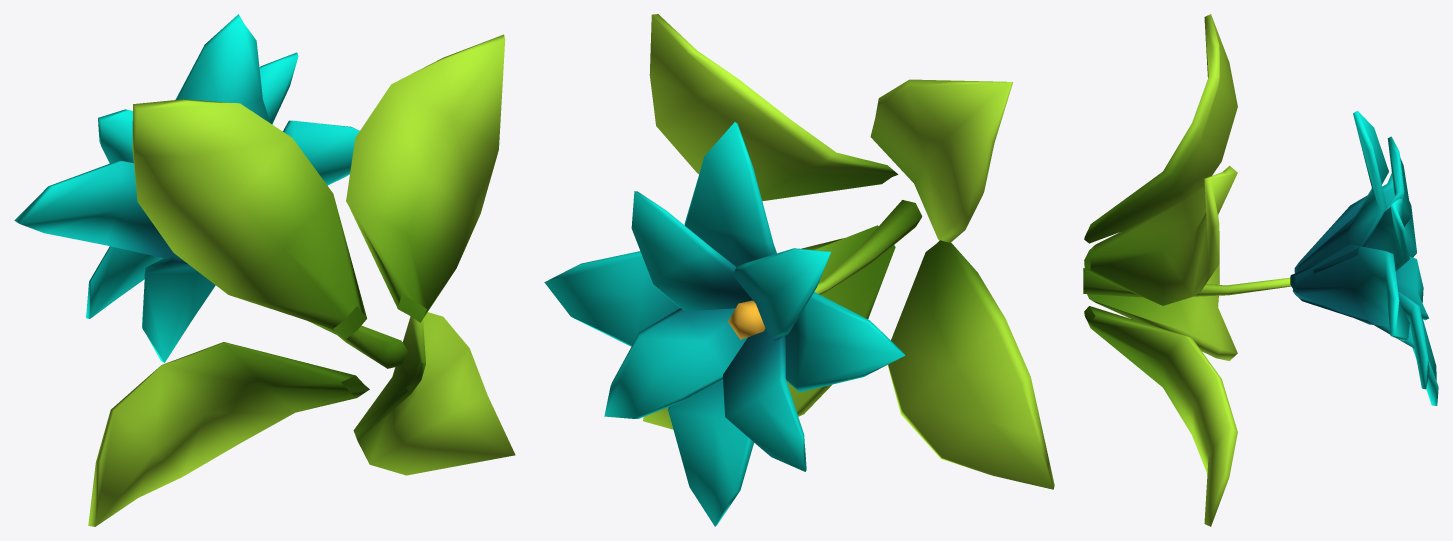
File: bigblueflwrs.fbx
3 views of the same model, side by side, from view 1: azimuth 30°, elevation 25°; view 2: azimuth 150°, elevation 25°; view 3: azimuth 270°, elevation 25° (orthographic). The views are drawn at different scales.
Parts seen in each view (by area): view 1: FLOWERVAR2.001; view 2: FLOWERVAR2.001; view 3: FLOWERVAR2.001.
Part boxes in pixels (x1,y1,x2,y2): FLOWERVAR2.001: [14, 14, 515, 526]; FLOWERVAR2.001: [544, 14, 1054, 526]; FLOWERVAR2.001: [1083, 14, 1438, 526].
Bounding box in the file's own units: 412 × 411 × 366.
